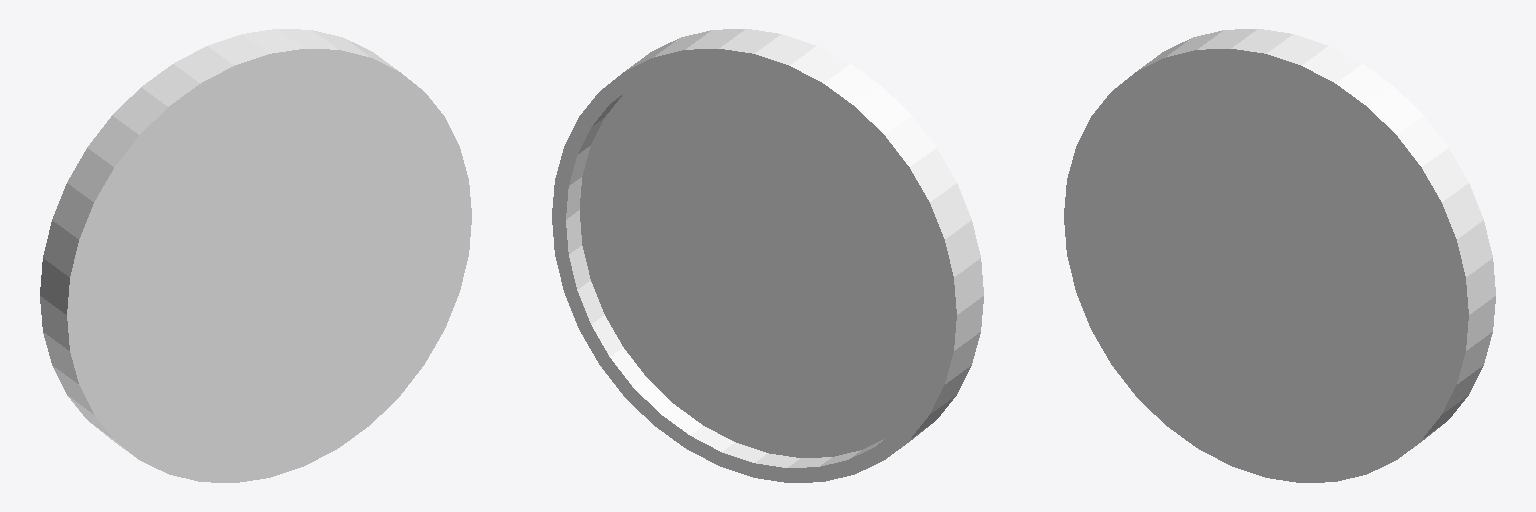
File: JingGai_RL_convert.obj
The picture shows the model from 3 angles: view 1: azimuth 30°, elevation 25°; view 2: azimuth 150°, elevation 25°; view 3: azimuth 330°, elevation 25°; orthographic projection.
Bounding box in the file's own units: 1.12 × 1.12 × 0.13.